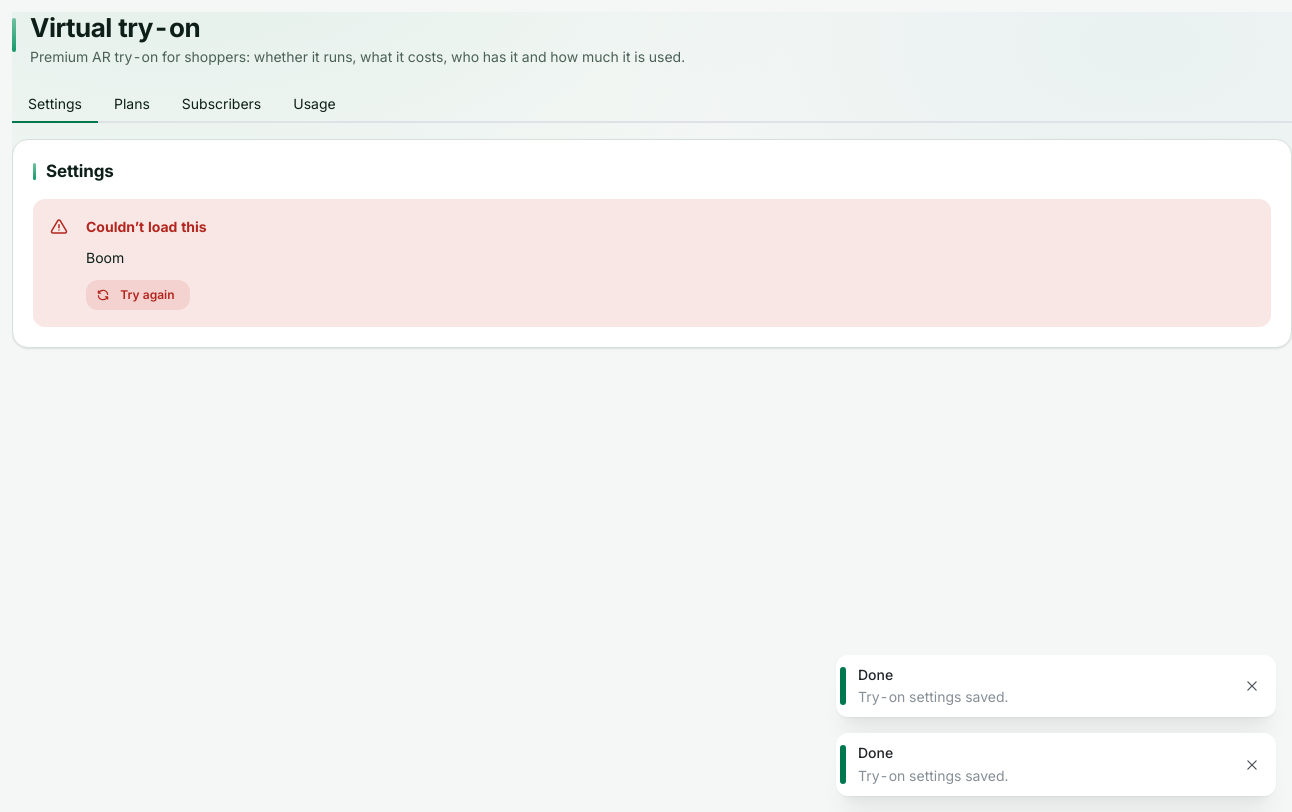
Scenario: try-on settings › shows could-not-load with a retry, not an empty form
This screenshot has width=1292, height=812.
Expected: the message "Couldn’t load this Boom Try again" is shown, 33,199 -> 1271,327
Expected: the button "Save settings" is not shown
Click the button "Try again".
click(138, 295)  # box 86,280 -> 190,310
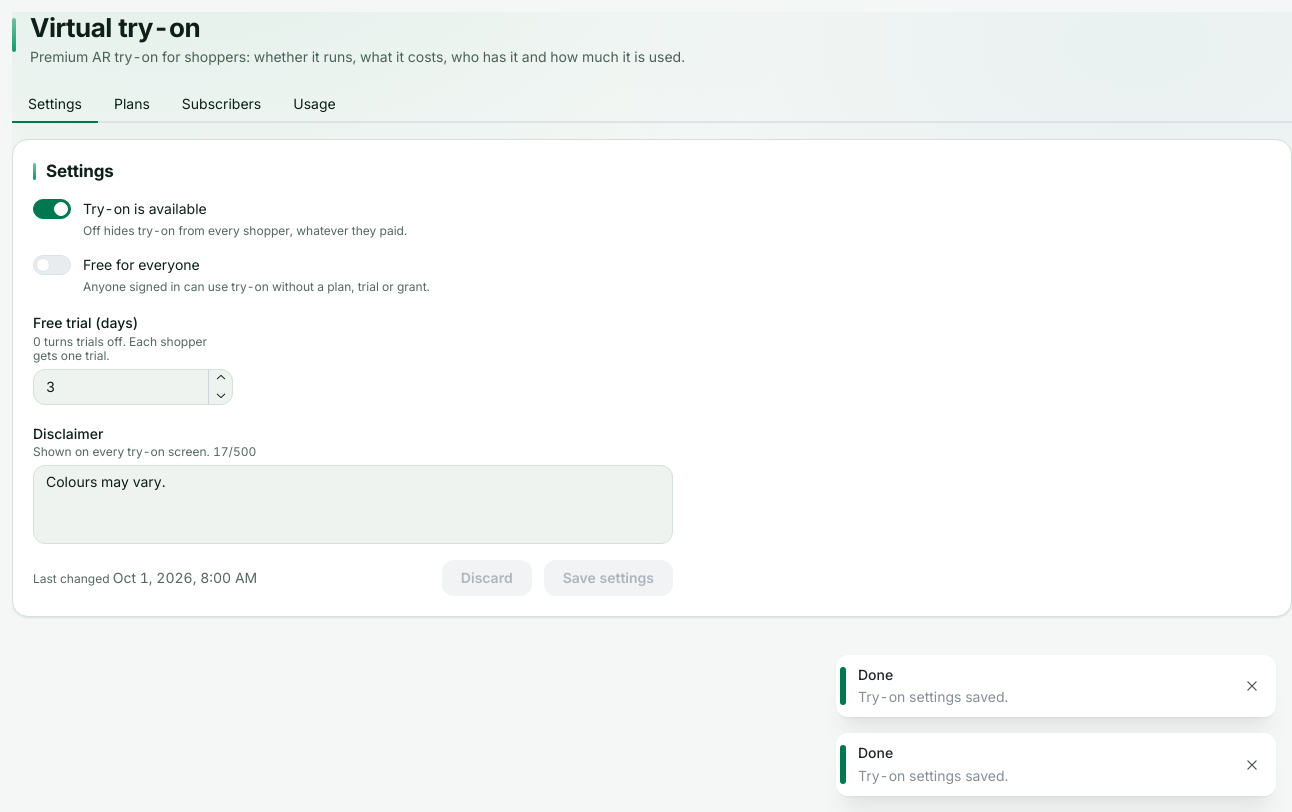
Now the button "Save settings" is shown, box 544,560 -> 673,596
